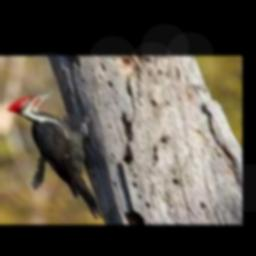Woodpecker: (6, 87, 102, 218)
